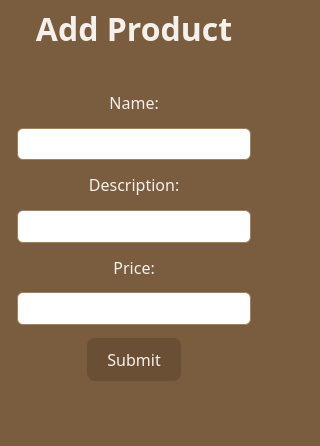
Test case: AddProductForm should › shows success message after product is added
Type "Dark Chocolate" into the field labelled "Name:".
click(134, 144); type("Dark Chocolate")  # box [17,128,251,160]
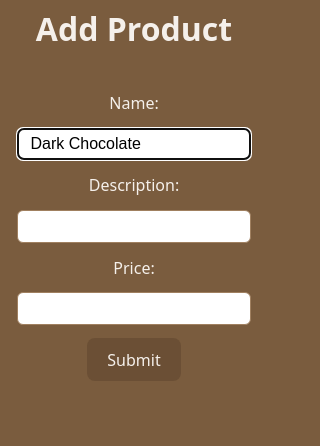
Type "Rich and bold" into the field labelled "Description:".
click(134, 226); type("Rich and bold")  # box [17,210,251,243]
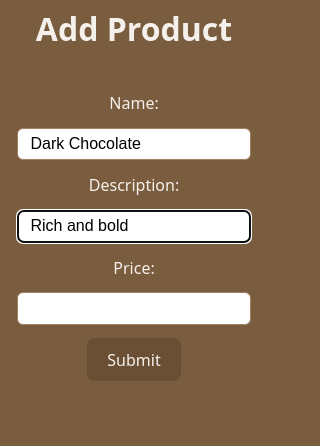
Type "15" into the field labelled "Price:".
click(134, 309); type("15")  # box [17,292,251,325]
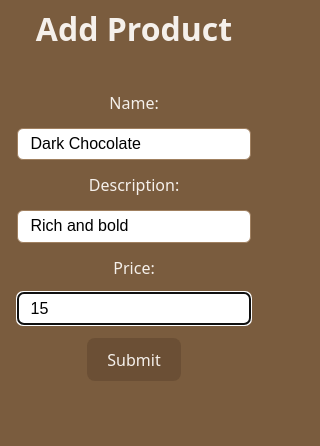
Click the button "Submit".
click(134, 360)  # box [87,338,181,381]
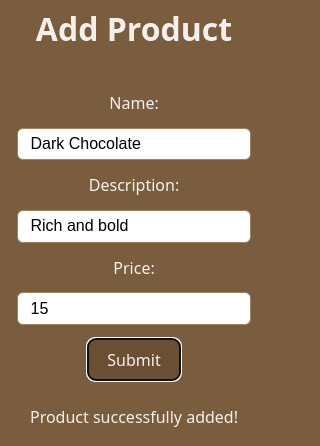
Check: the text "Product successfully added!" is shown, box [30,405,238,429]
